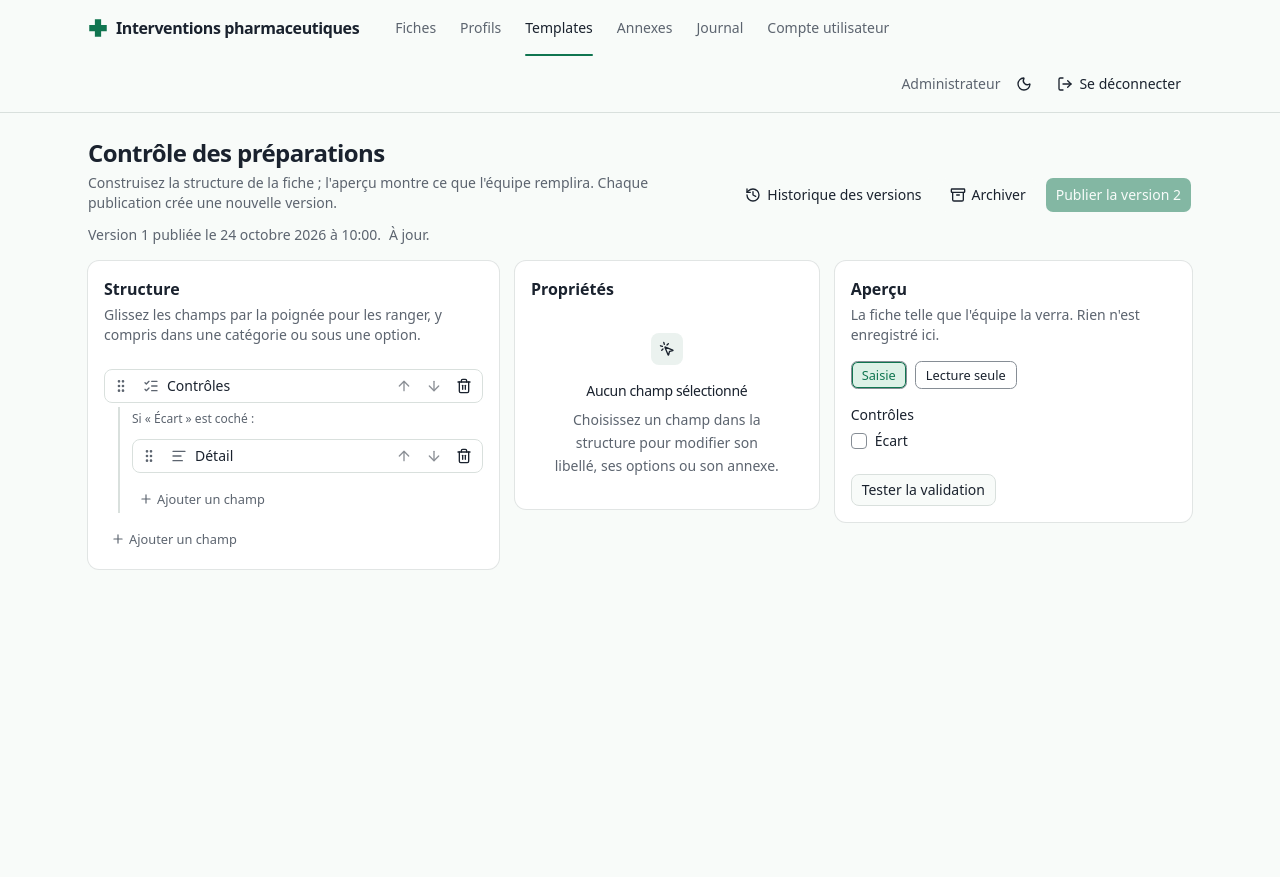
Test: Template editor › a server 422 is shown and attached to the node
Click the button "Contrôles" at (262, 386), box [137, 372, 388, 400]
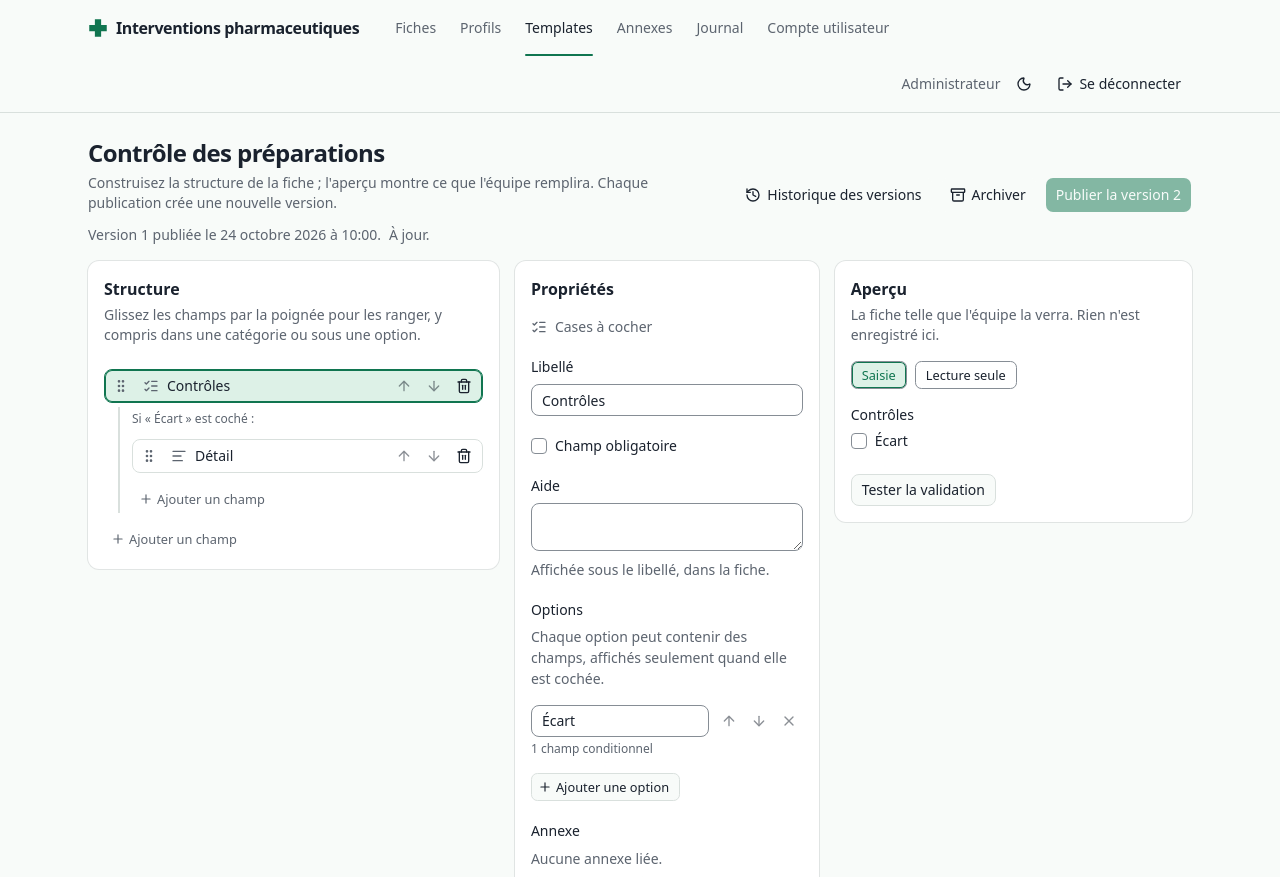
Replace the text in the field labelled "Libellé" with "Contrôles du jour" at (667, 400), box [531, 384, 803, 416]
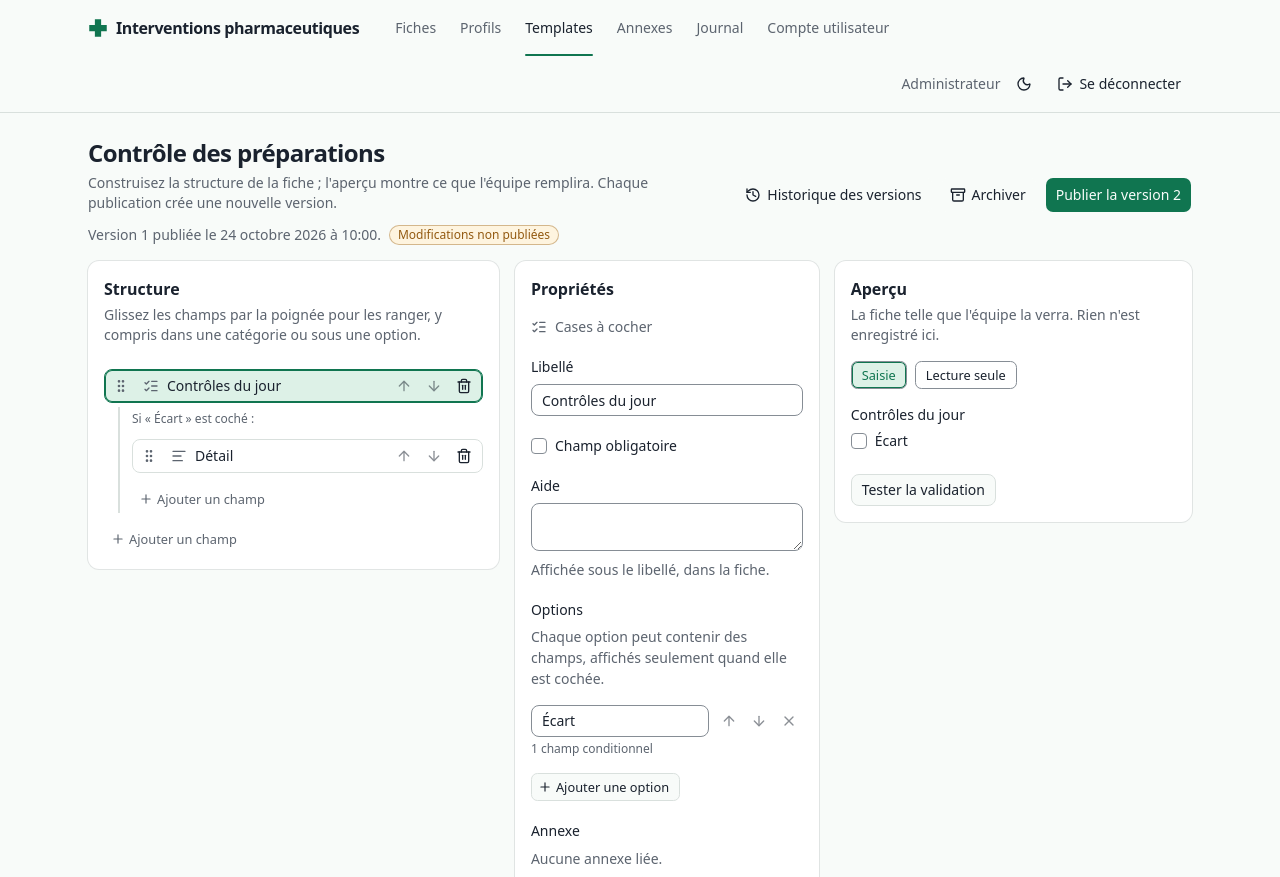
Click the button "Publier la version 2" at (1118, 195), box [1045, 177, 1192, 213]
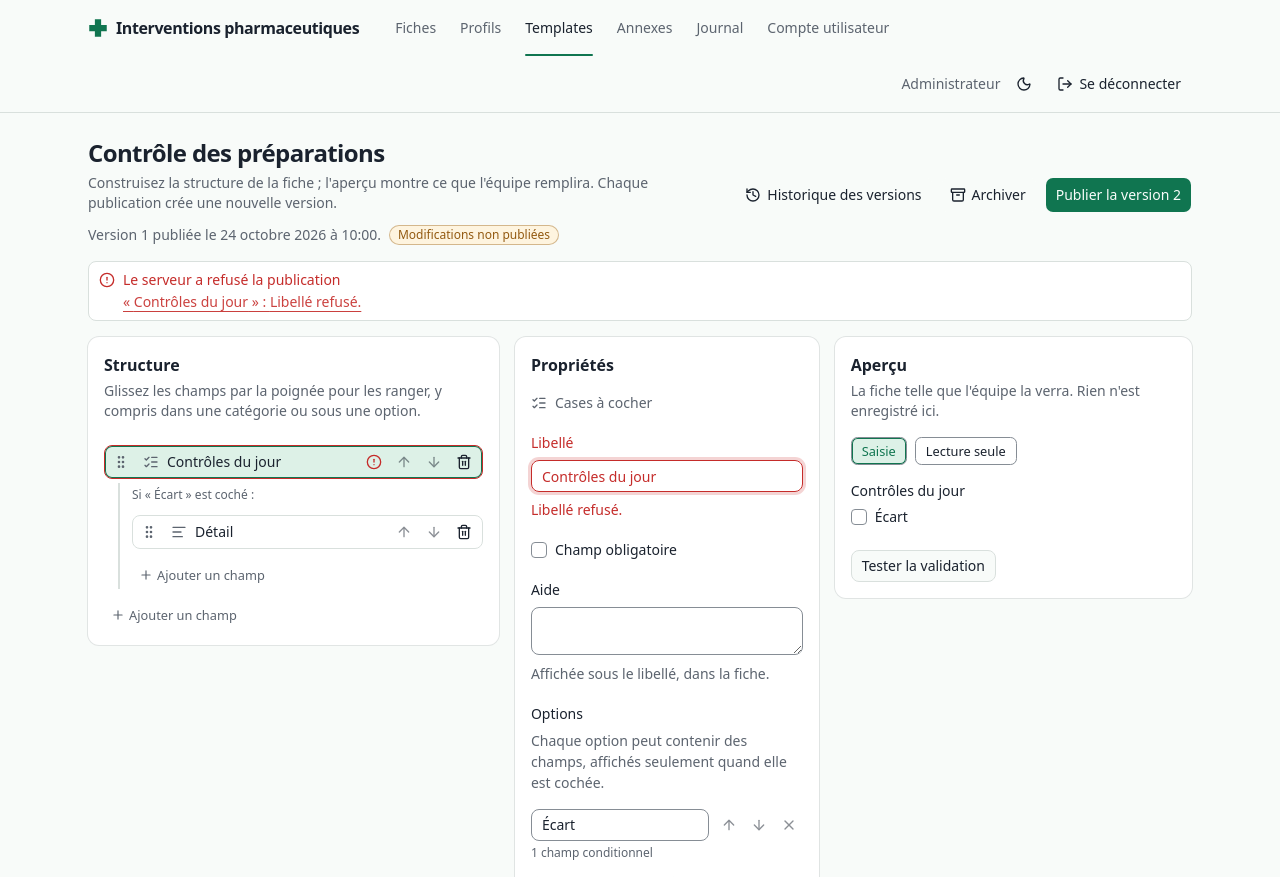
Check: the text "Le serveur a refusé la publication" is shown, box [123, 270, 340, 289]
Check: the button "« Contrôles du jour » : Libellé refusé." is shown, box [123, 292, 361, 312]
